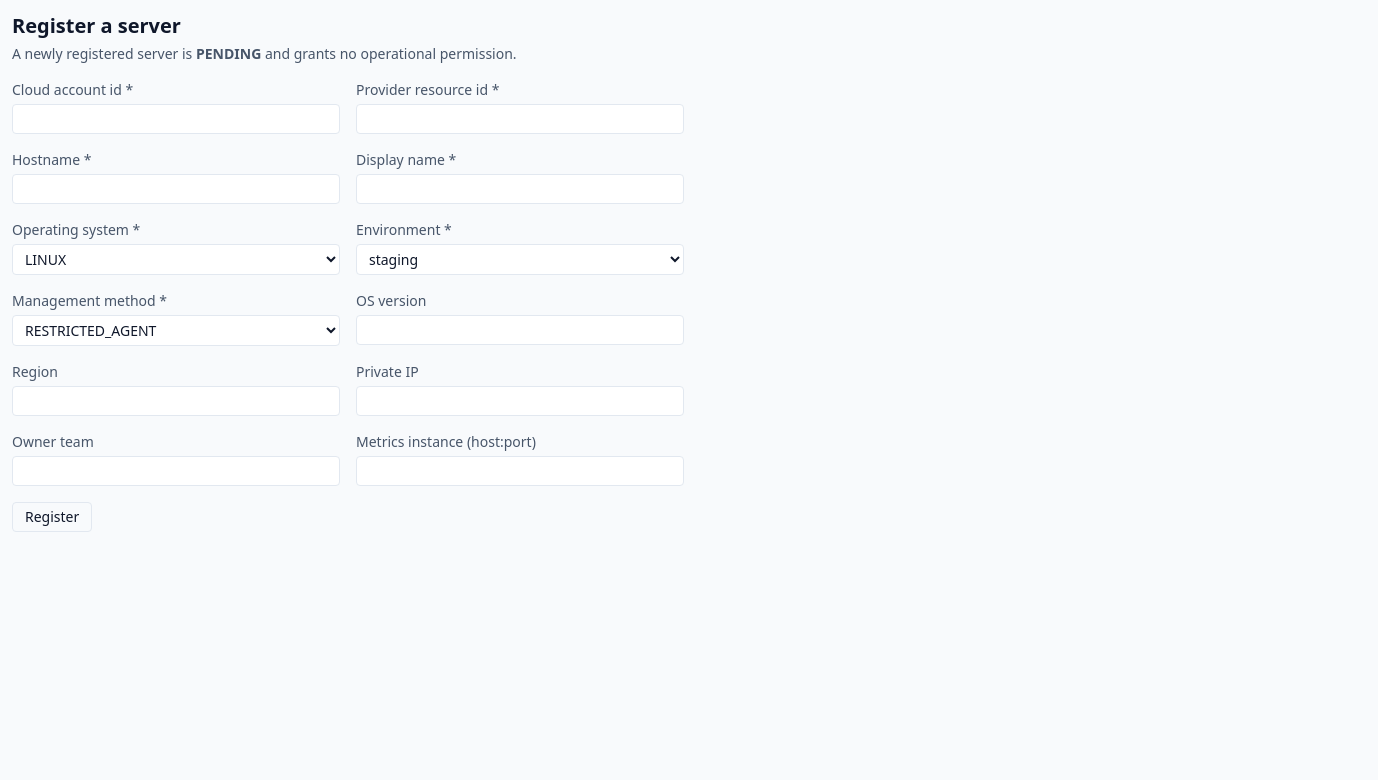
Test: ServerForm › shows a validation error that names no rendered field
Type "a1" into the field labelled "Cloud account id *". click: [176, 119]
box: [12,104,340,134]
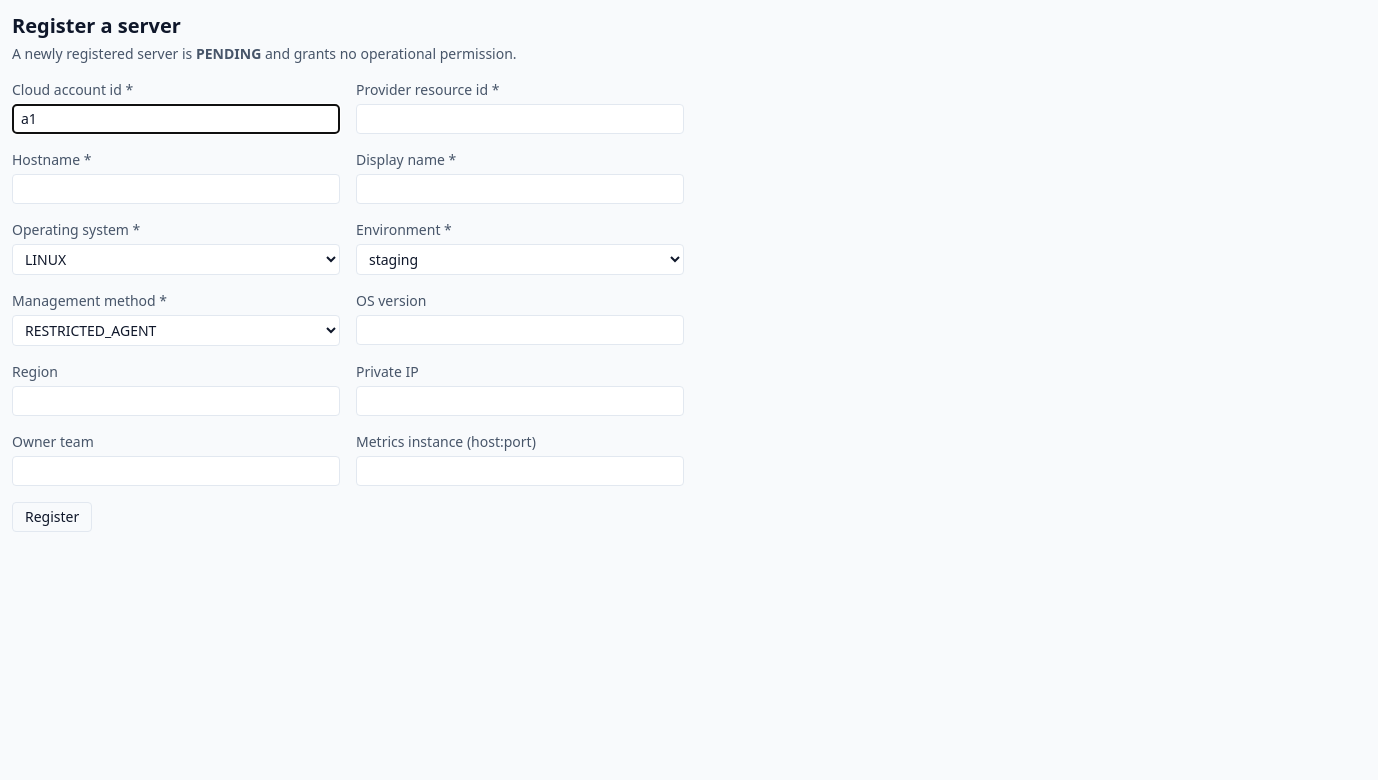
Type "host-1" into the field labelled "Provider resource id *". click: [520, 119]
box: [356,104,684,134]
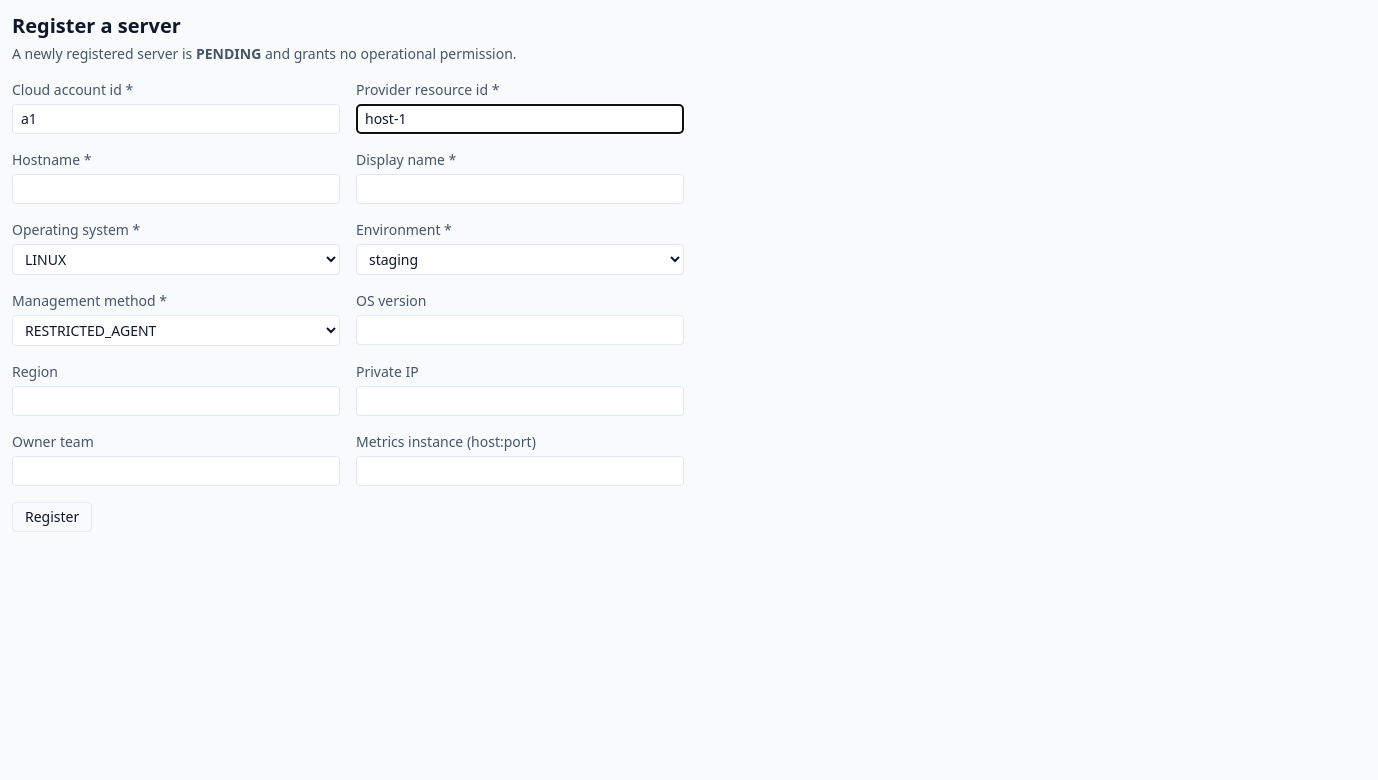
Type "web-01.internal.example" into the field labelled "Hostname *". click: [176, 189]
box: [12,174,340,204]
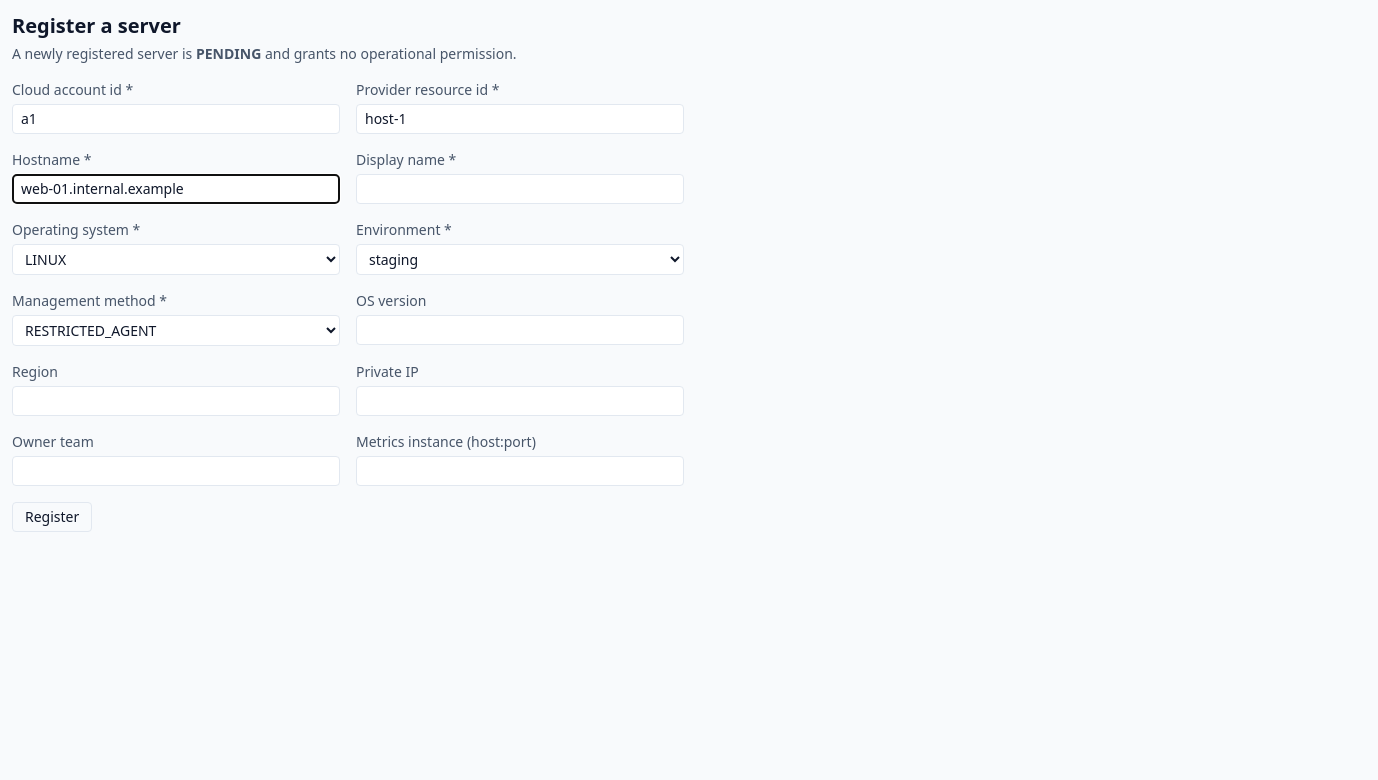
Type "Web 01" into the field labelled "Display name *". click: [520, 189]
box: [356,174,684,204]
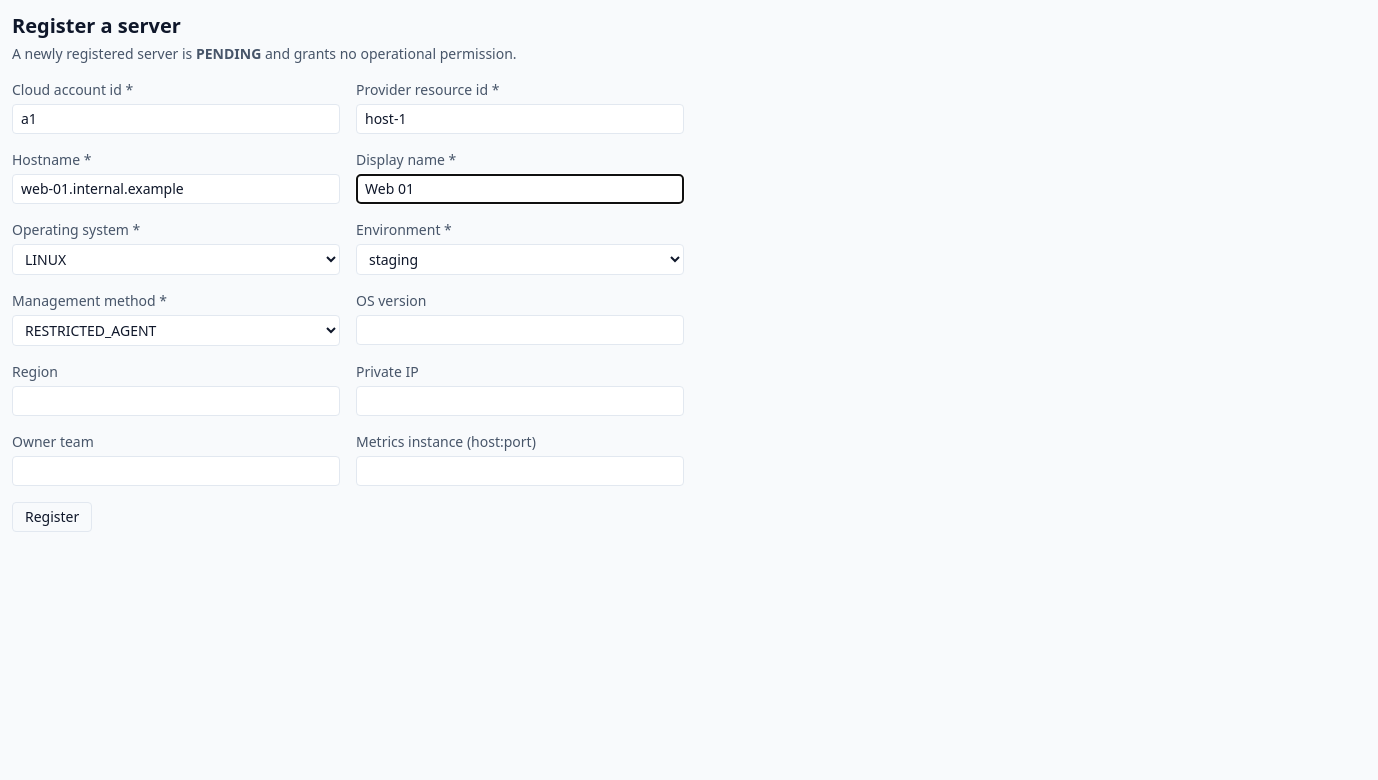
Click the button "Register". click: [52, 517]
box: [12,502,92,532]
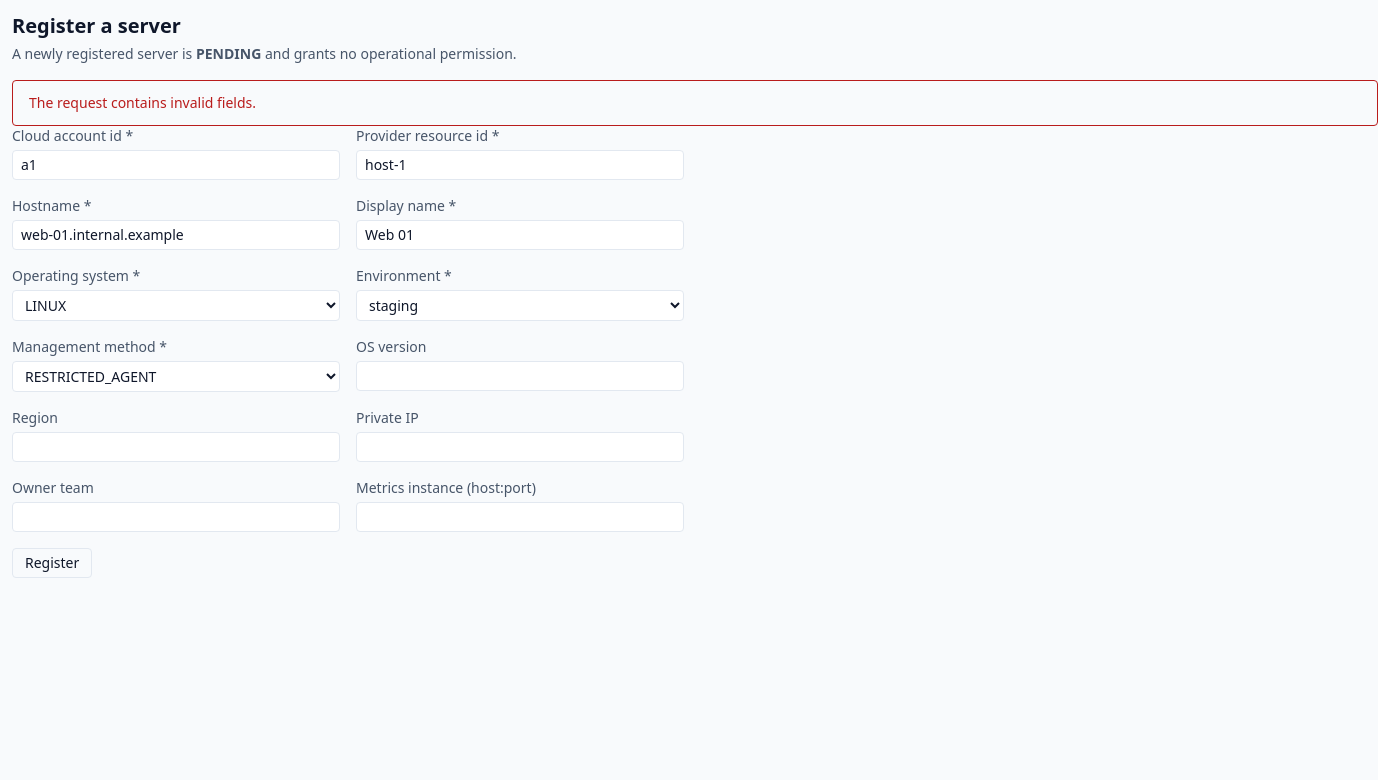
Result: the message shows "invalid fields" at [29,93,256,112]
